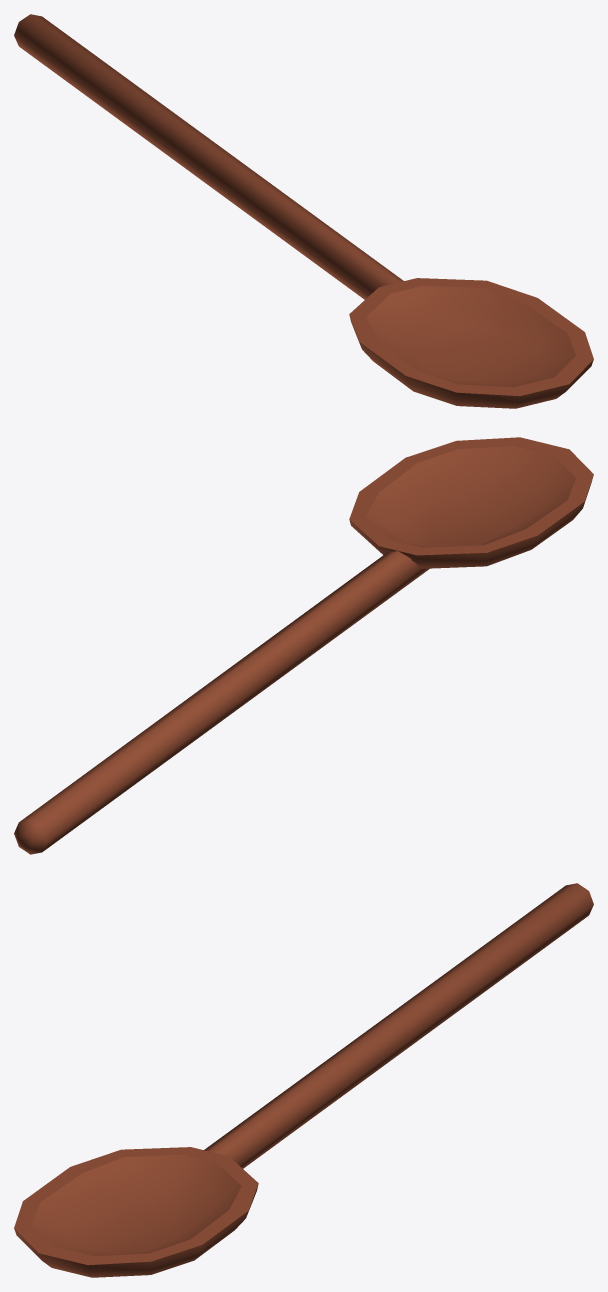
The model's file is Scooper.fbx.
3 renders of one model, top to bottom at view 1: azimuth 30°, elevation 25°; view 2: azimuth 150°, elevation 25°; view 3: azimuth 330°, elevation 25°, orthographic.
Parts seen in each view (by area): view 1: WoodenSpoon_01; view 2: WoodenSpoon_01; view 3: WoodenSpoon_01.
Part boxes in pixels (x1,y1,x2,y2): WoodenSpoon_01: [14, 14, 593, 408]; WoodenSpoon_01: [14, 437, 593, 854]; WoodenSpoon_01: [14, 883, 593, 1277].
Size of the model in its own units: 0.0564 by 0.0109 by 0.2832.
